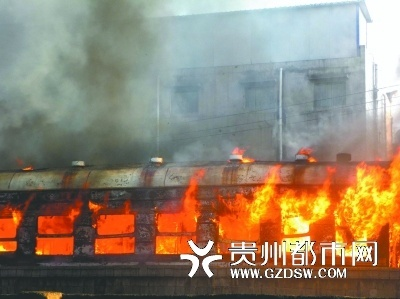fire: (0, 186, 141, 257)
